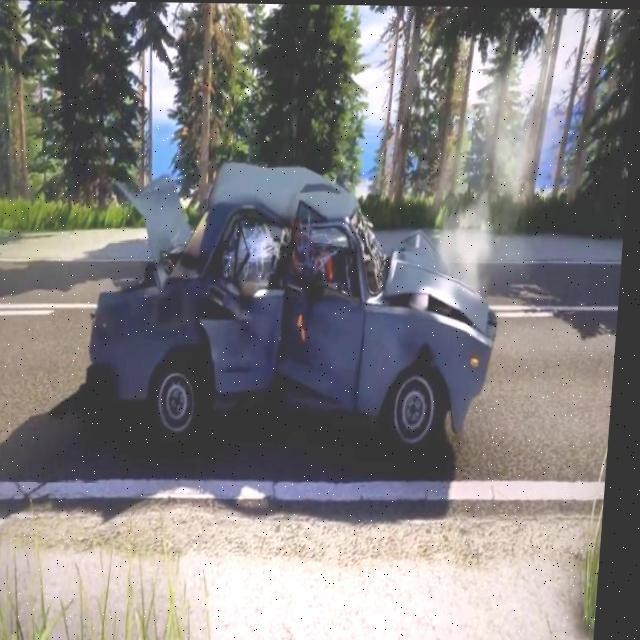single accident: (63, 125, 550, 487)
